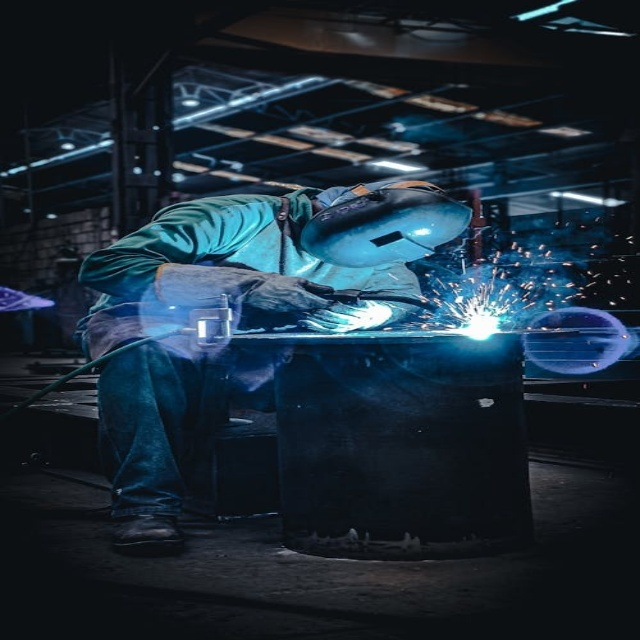Guantes: (237, 271, 333, 316), (299, 298, 399, 332)
